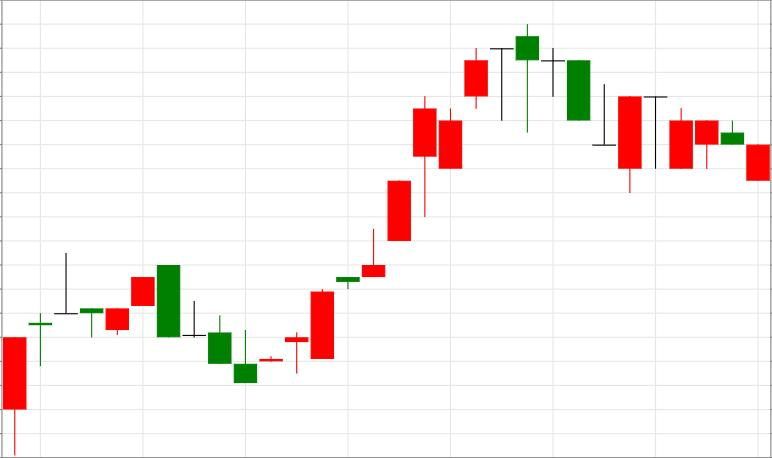bearish_engulfing_fall: (2, 253, 180, 456)
hanging_man_fall: (259, 24, 539, 373)
